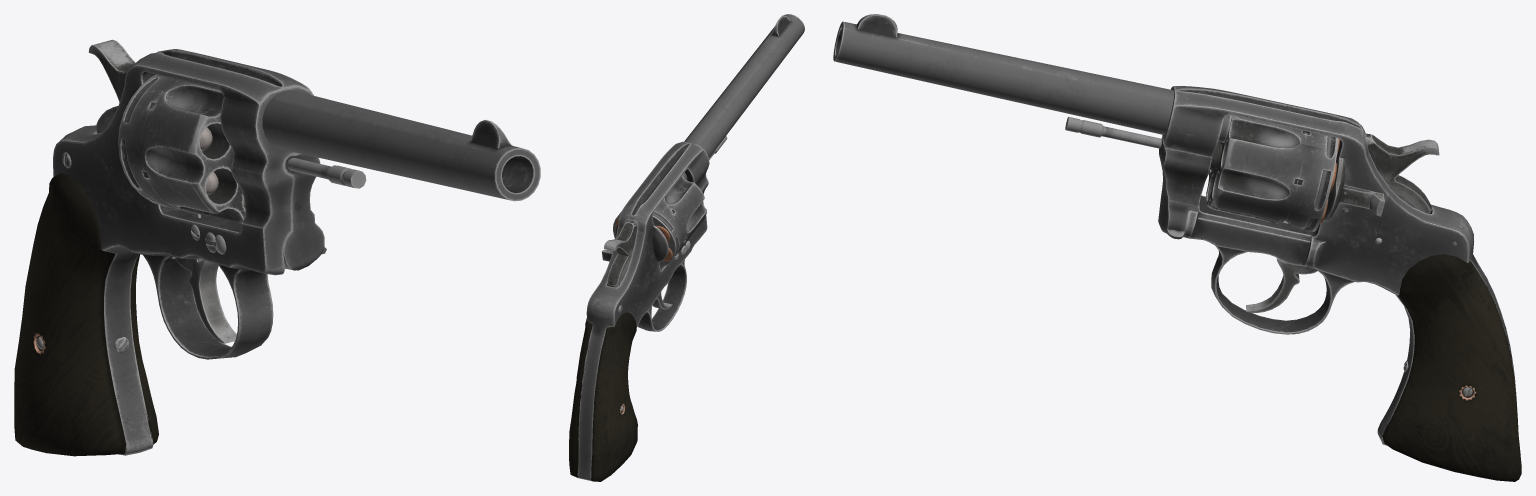
Rendered from gun-model.glb.
3 views of the same model, side by side, from view 1: azimuth 30°, elevation 25°; view 2: azimuth 150°, elevation 25°; view 3: azimuth 270°, elevation 25° (orthographic). The views are drawn at different scales.
Visible parts, largest first — view 1: polySurface22, polySurface20, pCylinder31, polySurface24, polySurface23, polySurface36, polySurface37, polySurface28; view 2: polySurface22, polySurface20, pCylinder31, polySurface24, polySurface37; view 3: polySurface22, polySurface20, pCylinder31, polySurface24, polySurface23, polySurface37, polySurface34, polySurface28, polySurface36.
Part boxes in pixels (left/top/right/bottom): polySurface22: left=53, top=49, right=313, bottom=455; polySurface20: left=14, top=173, right=158, bottom=456; pCylinder31: left=262, top=90, right=540, bottom=201; polySurface24: left=118, top=74, right=245, bottom=223; polySurface23: left=283, top=153, right=326, bottom=270; polySurface36: left=175, top=258, right=236, bottom=343; polySurface37: left=88, top=39, right=135, bottom=133; polySurface28: left=287, top=158, right=366, bottom=188; polySurface22: left=577, top=141, right=709, bottom=481; polySurface20: left=569, top=312, right=637, bottom=481; pCylinder31: left=682, top=14, right=804, bottom=180; polySurface24: left=613, top=176, right=706, bottom=267; polySurface37: left=604, top=220, right=637, bottom=287; polySurface22: left=1162, top=86, right=1521, bottom=470; polySurface20: left=1382, top=254, right=1521, bottom=481; pCylinder31: left=833, top=14, right=1231, bottom=142; polySurface24: left=1206, top=115, right=1338, bottom=231; polySurface23: left=1158, top=137, right=1212, bottom=239; polySurface37: left=1366, top=133, right=1439, bottom=214; polySurface34: left=1323, top=157, right=1384, bottom=221; polySurface28: left=1065, top=117, right=1222, bottom=169; polySurface36: left=1246, top=258, right=1317, bottom=312.
Size of the model in its own units: 0.0268 by 0.1265 by 0.1682.
25 materials, 25 textured.
